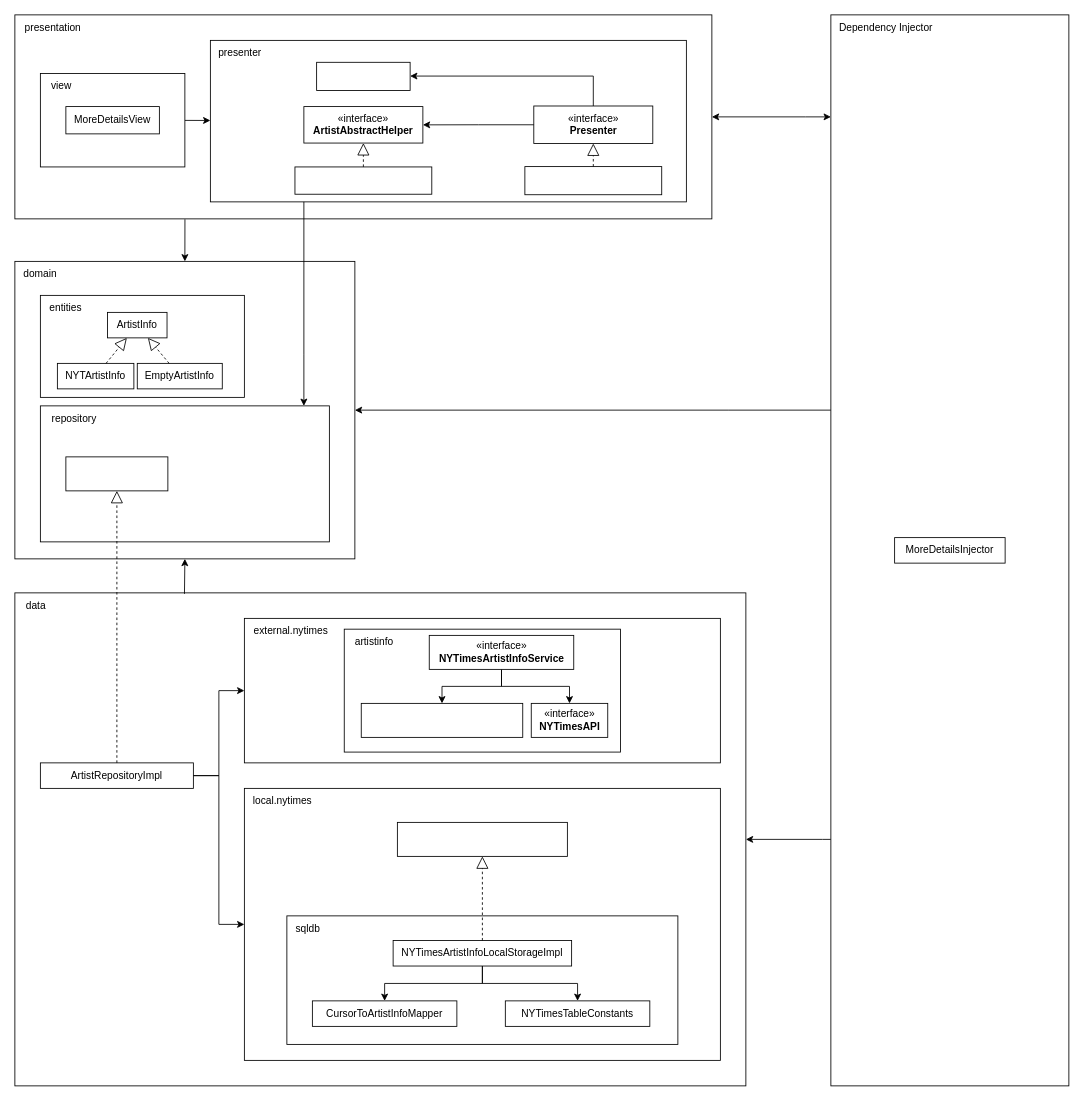
The diagram is 1084 pixels wide and 1101 high, and some of its shapes have lost their labels. The box of each missing label's shape, as (x1, y1, x2, y2) in pixels:
ArtistAbstractHelperImpl: (294, 166, 432, 194)
MoreDetailsPresenterImpl: (524, 166, 662, 195)
MoreDetailsUIState: (316, 61, 410, 90)
«interface» ArtistRepository: (65, 456, 168, 491)
«interface» NYTimesArtistInfoLocalStorage: (397, 822, 567, 856)
«interface» NYTimesToArtistInfoResolver: (360, 703, 523, 737)
